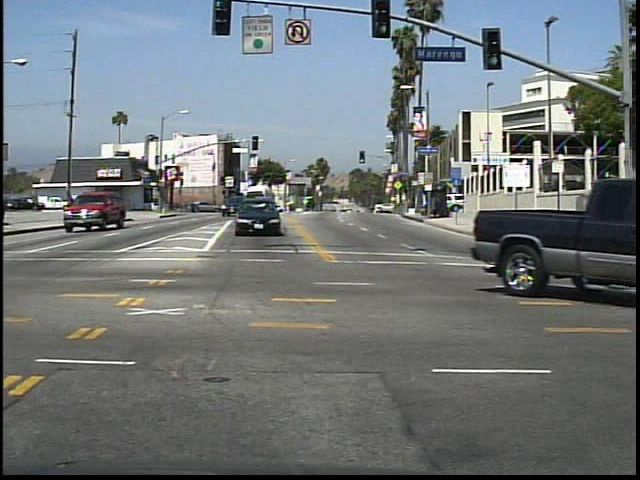person: (65, 191, 81, 220)
